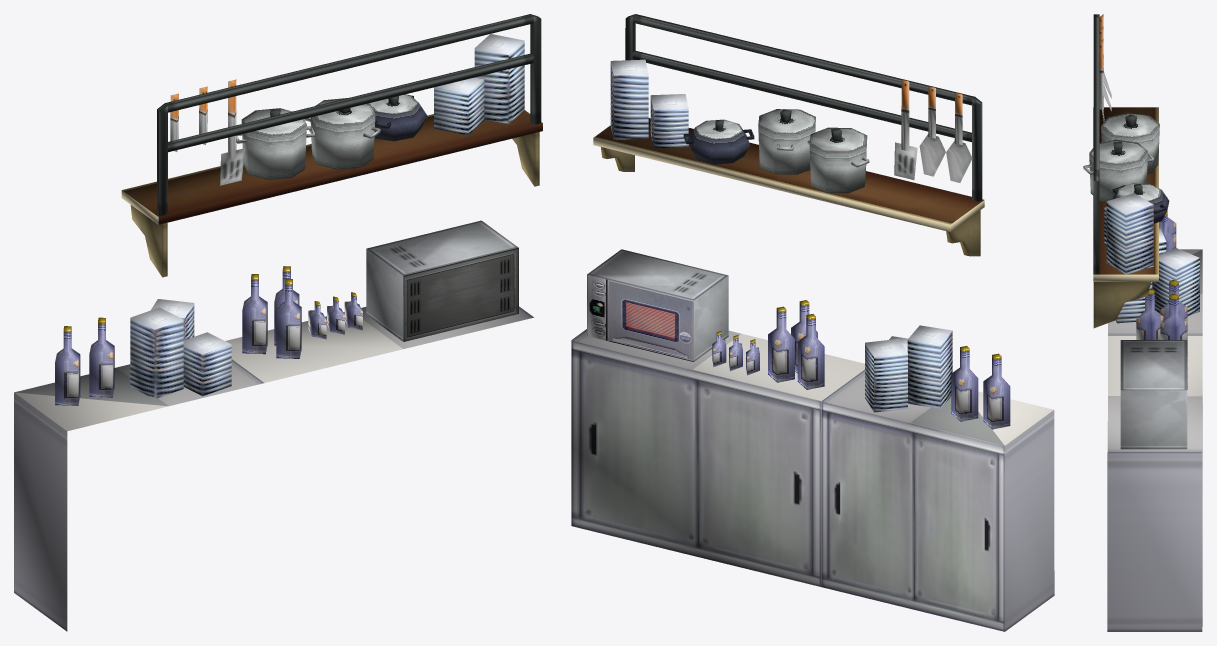
File: a_SCcook02b.glb
The picture shows the model from 3 angles, left to right: view 1: azimuth 30°, elevation 25°; view 2: azimuth 150°, elevation 25°; view 3: azimuth 270°, elevation 25°; orthographic projection. The views are drawn at different scales.
Parts seen in each view (by area): view 1: a_SCcook02b; view 2: a_SCcook02b; view 3: a_SCcook02b.
Boxes of the visible parts, box(x1,y1,x2,y2) form: a_SCcook02b: box(14, 14, 542, 631); a_SCcook02b: box(571, 14, 1054, 631); a_SCcook02b: box(1083, 14, 1202, 631).
Size of the model in its own units: 2.45 by 2.57 by 0.6059.
8 materials, 8 textured.
